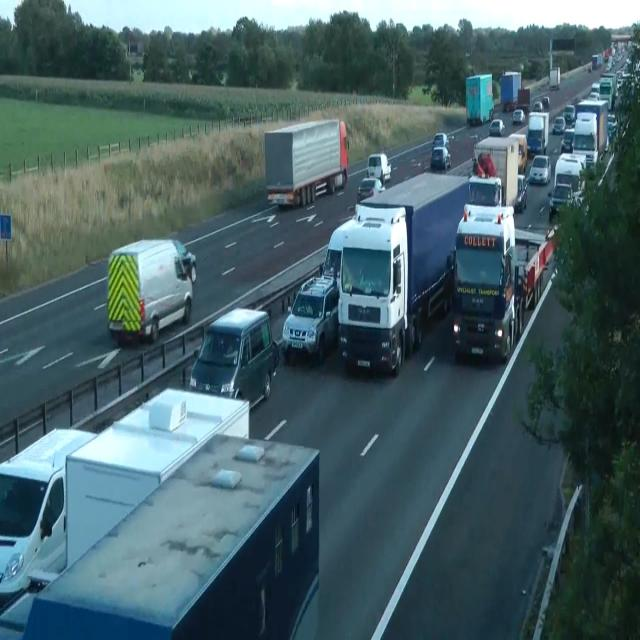bus: (168, 238, 196, 284), (548, 182, 574, 220), (357, 177, 385, 202), (529, 154, 551, 185), (430, 146, 451, 170), (515, 174, 527, 211), (560, 128, 574, 153), (431, 132, 449, 150), (489, 118, 505, 136), (552, 116, 566, 134), (563, 104, 575, 124), (512, 108, 525, 125), (542, 95, 550, 109), (532, 101, 542, 111), (422, 84, 429, 94)
car: (336, 206, 408, 376)
jeep: (0, 425, 97, 602), (106, 236, 195, 345), (189, 306, 279, 410), (281, 273, 339, 363), (367, 152, 391, 185)
minibus: (0, 386, 320, 639), (329, 171, 470, 376), (448, 204, 558, 364), (264, 118, 349, 208), (472, 135, 528, 212), (572, 99, 608, 169), (465, 73, 494, 125), (527, 111, 549, 156), (499, 70, 522, 111), (509, 134, 527, 172), (517, 87, 530, 111), (549, 65, 561, 90), (592, 54, 602, 70)
